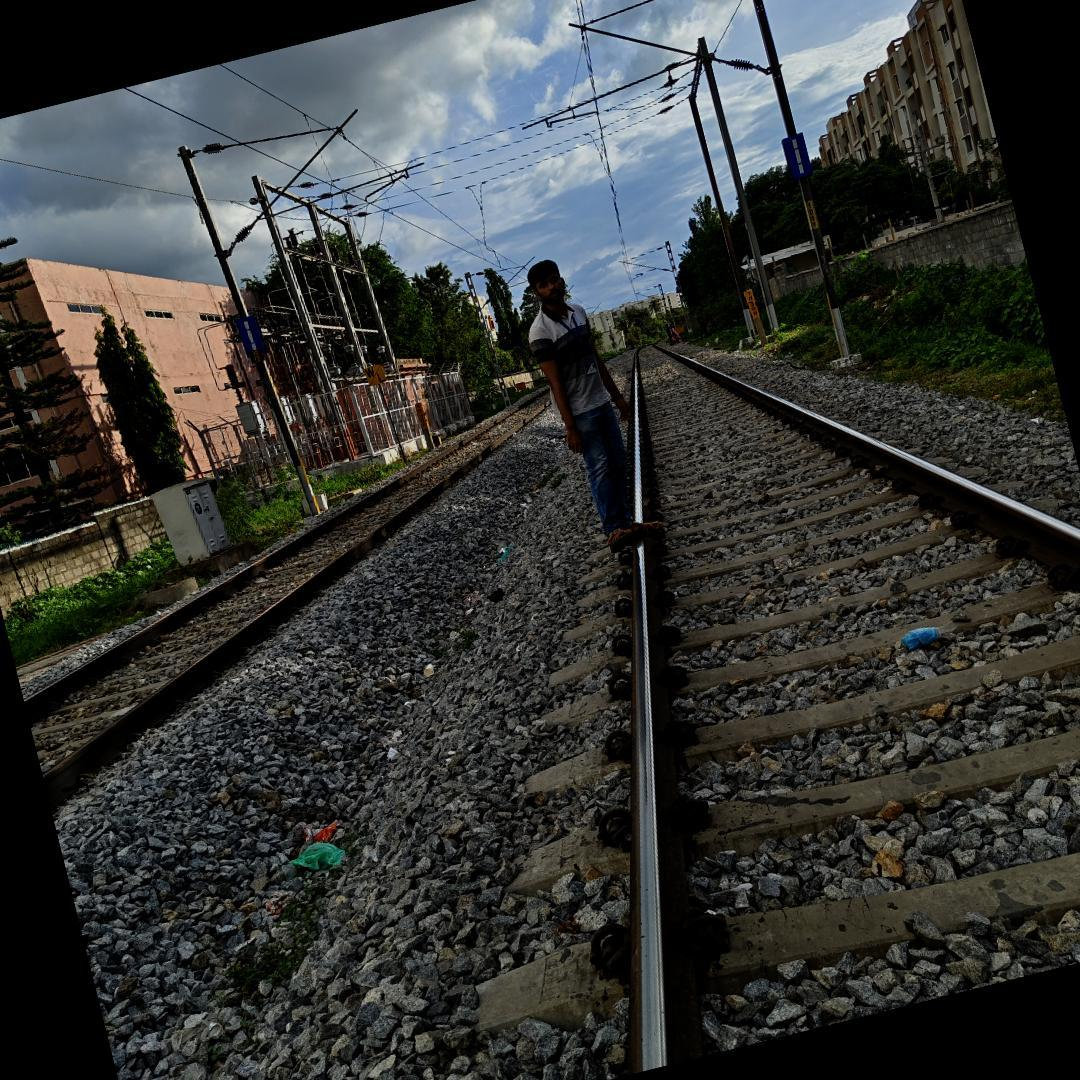standing: (508, 240, 679, 566)
